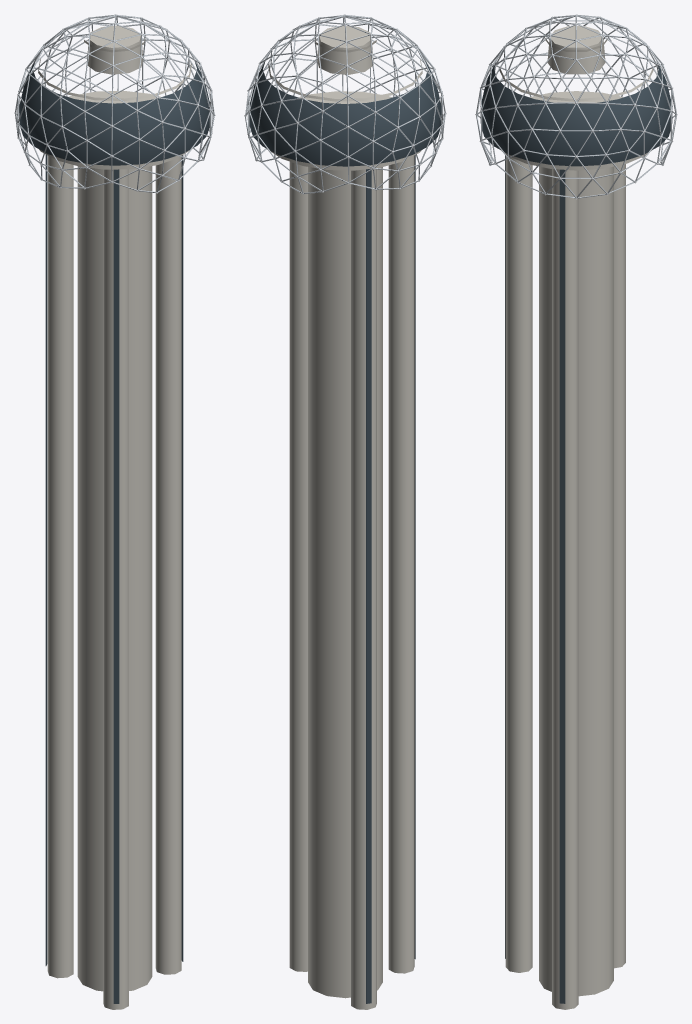
The model's file is reunion-tower-far.glb.
3 renders of one model, left to right at view 1: azimuth 30°, elevation 25°; view 2: azimuth 150°, elevation 25°; view 3: azimuth 270°, elevation 25°, orthographic.
Visible parts, largest first — view 1: reunion-tower-0-concrete, reunion-tower-0-glass, reunion-tower-0-metal; view 2: reunion-tower-0-concrete, reunion-tower-0-glass, reunion-tower-0-metal; view 3: reunion-tower-0-concrete, reunion-tower-0-glass, reunion-tower-0-metal.
Boxes of the visible parts, x1=… form: reunion-tower-0-concrete: x1=38, y1=25, x2=192, y2=1009; reunion-tower-0-glass: x1=19, y1=61, x2=209, y2=1003; reunion-tower-0-metal: x1=15, y1=14, x2=214, y2=193; reunion-tower-0-concrete: x1=267, y1=25, x2=422, y2=1009; reunion-tower-0-glass: x1=249, y1=61, x2=441, y2=1003; reunion-tower-0-metal: x1=245, y1=14, x2=445, y2=194; reunion-tower-0-concrete: x1=499, y1=26, x2=653, y2=1009; reunion-tower-0-glass: x1=480, y1=61, x2=672, y2=1003; reunion-tower-0-metal: x1=476, y1=14, x2=676, y2=198.
Bounding box in the file's own units: 32.82 × 171 × 32.82.
